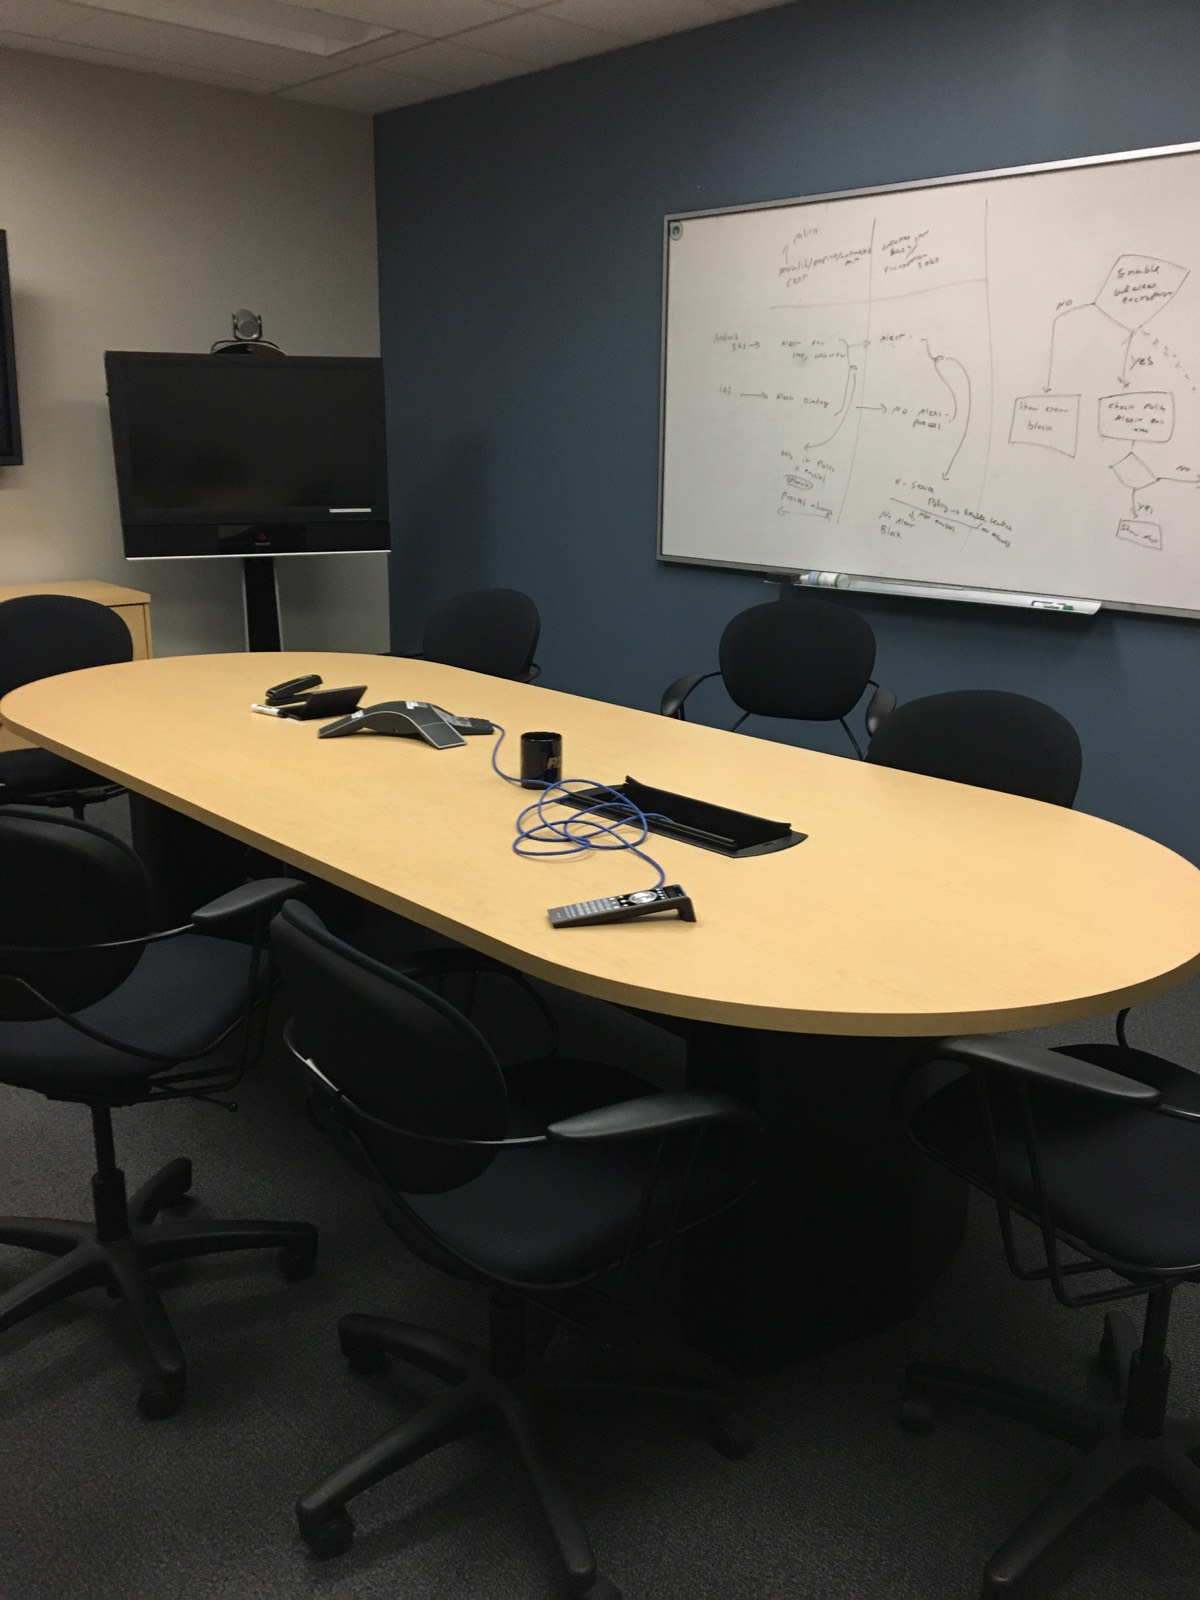conference_table: (1, 648, 1196, 1035)
